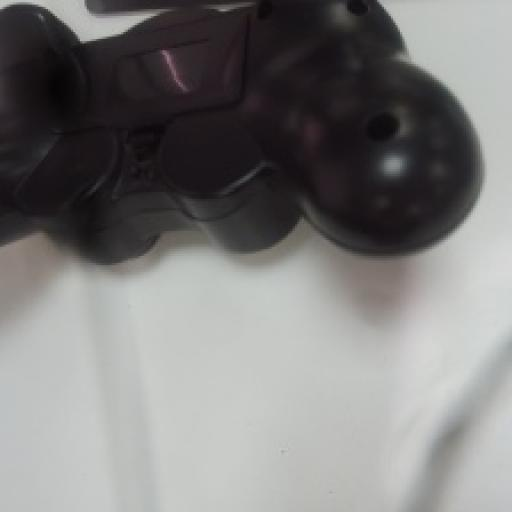game pad: (0, 0, 482, 261)
